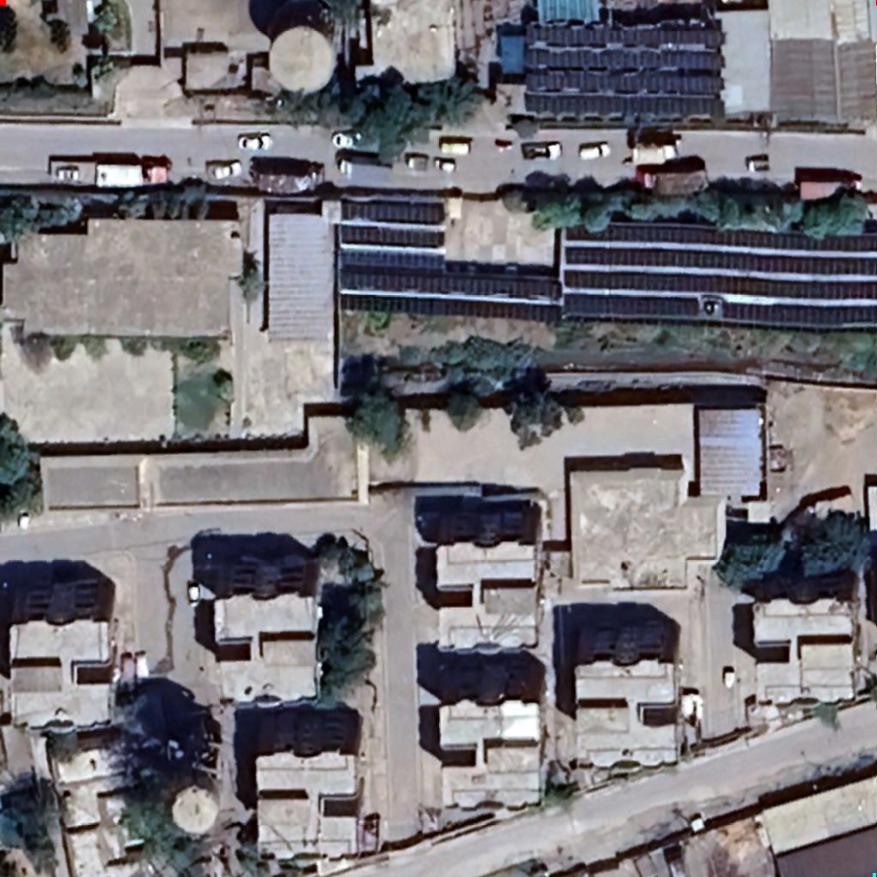Solarpanel: (561, 291, 876, 325), (563, 243, 876, 276), (563, 268, 876, 300), (566, 221, 876, 251), (337, 268, 563, 303), (337, 293, 565, 324), (523, 92, 727, 116), (527, 22, 727, 46), (524, 46, 726, 69), (525, 72, 725, 95), (339, 197, 448, 227), (333, 222, 449, 249), (337, 246, 449, 273)
